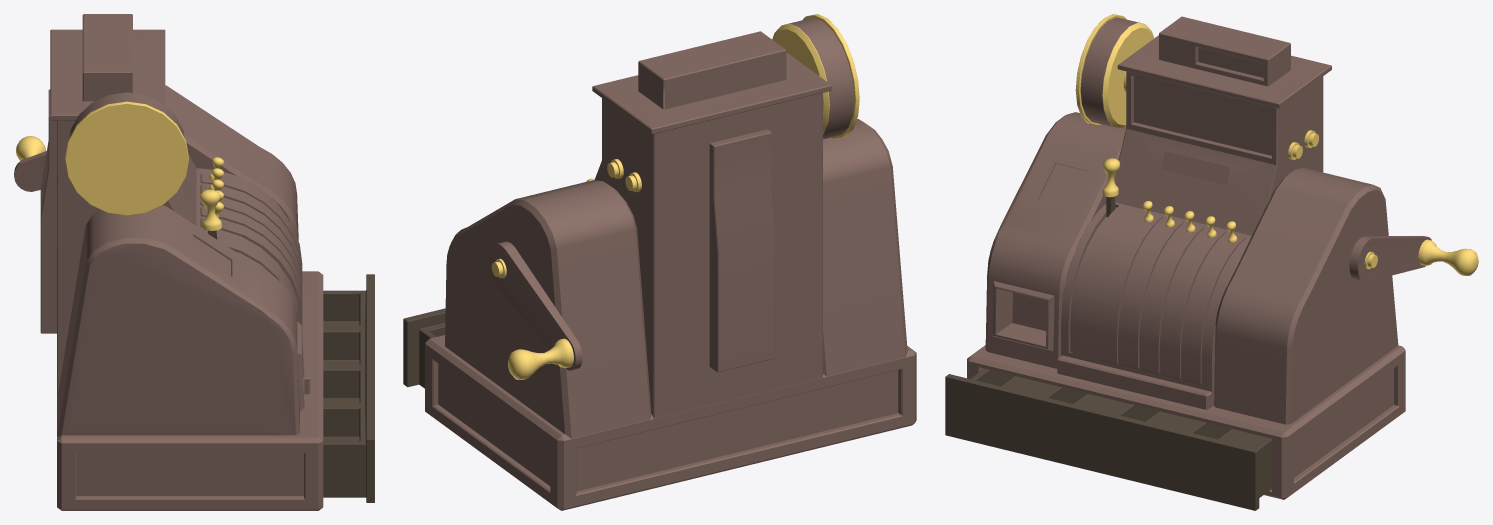
Rendered from caisse.fbx.
The picture shows the model from 3 angles, left to right: view 1: azimuth 30°, elevation 25°; view 2: azimuth 150°, elevation 25°; view 3: azimuth 270°, elevation 25°; orthographic projection. The views are drawn at different scales.
Parts seen in each view (by area): view 1: caisse; view 2: caisse; view 3: caisse.
Boxes of the visible parts, left/top/right/bottom form: caisse: left=14, top=14, right=374, bottom=510; caisse: left=403, top=14, right=916, bottom=510; caisse: left=945, top=14, right=1478, bottom=510.
Size of the model in its own units: 0.322 by 0.2906 by 0.3974.
